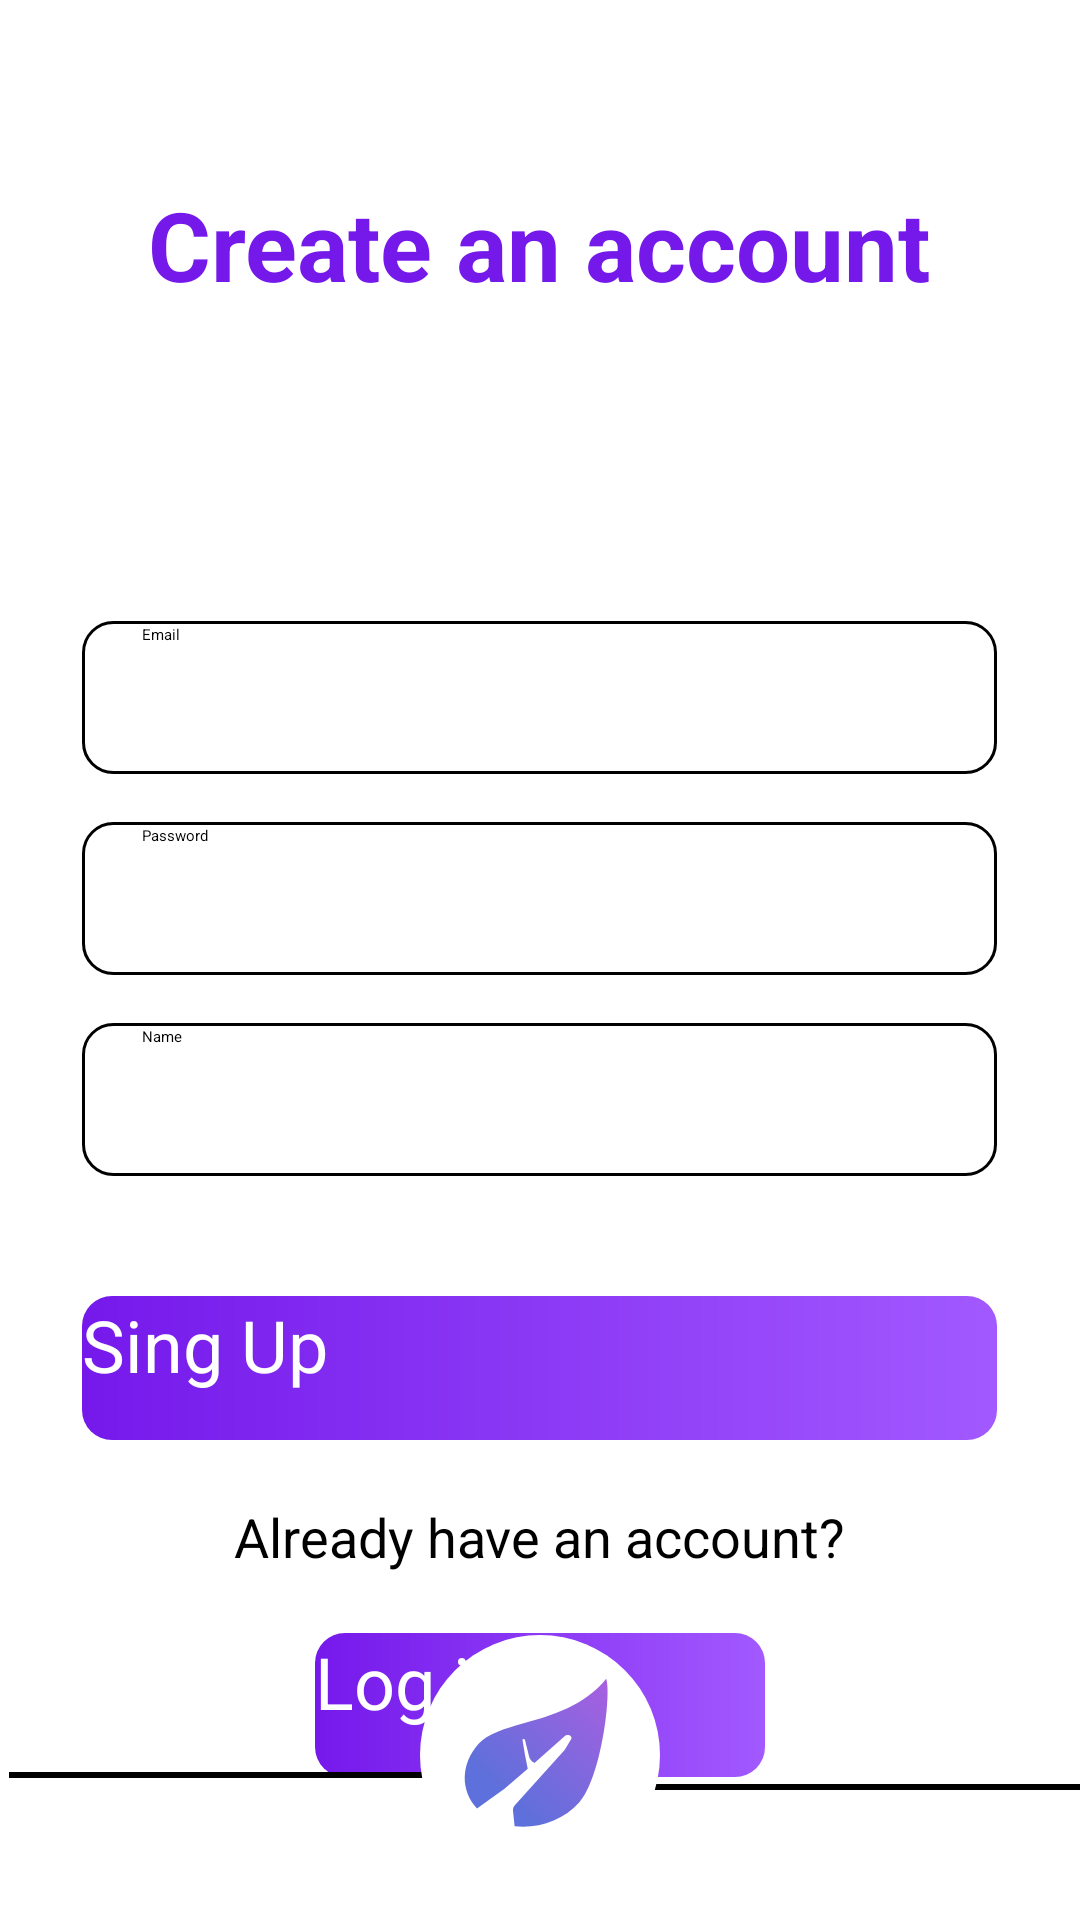

Where to tap for icons on this 1080 × 1920 app screen, as (x=x, y=y):
app: (x=536, y=1753)
